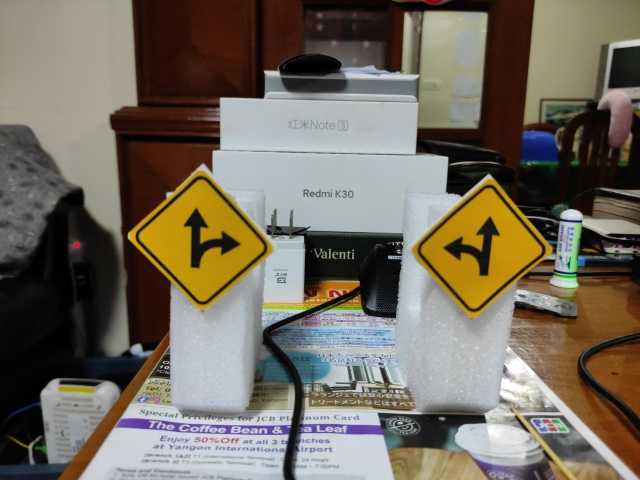Straight Or Left Sign: (413, 181, 550, 317)
Straight Or Right Sign: (128, 170, 278, 308)
